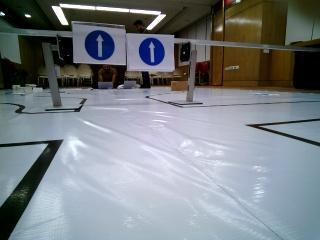straight: (71, 22, 126, 66), (125, 32, 172, 72)
